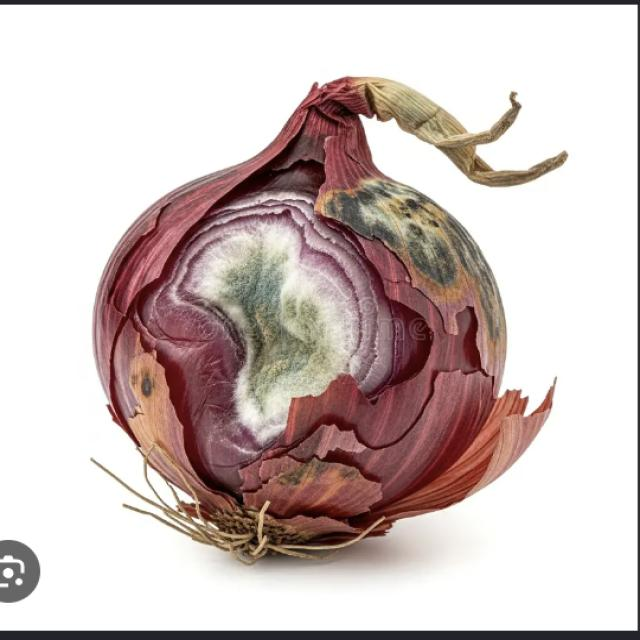mechanical_damage: (104, 234, 454, 431)
